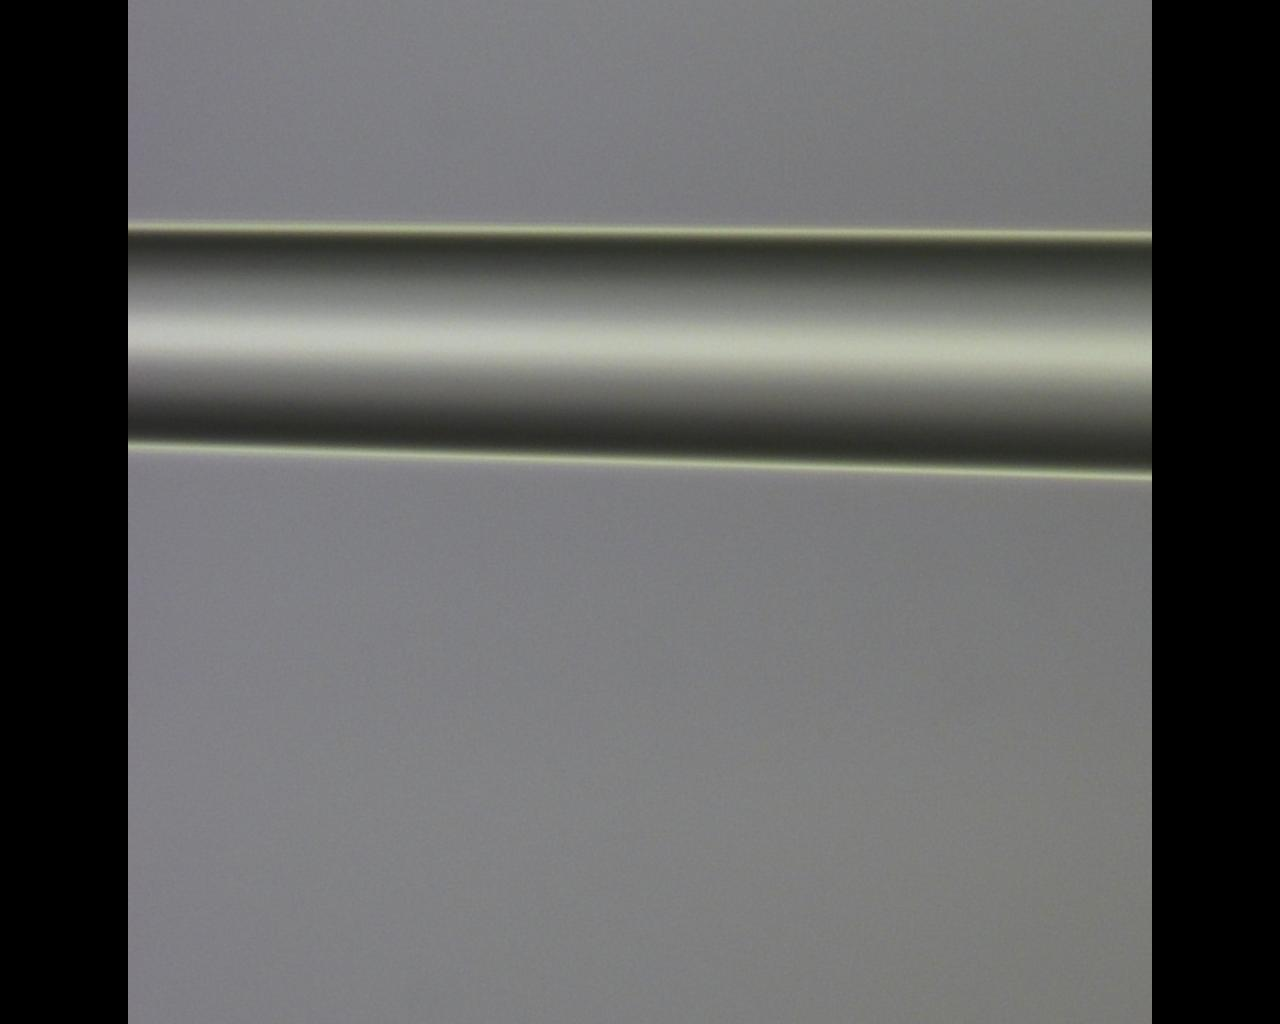fiber: (804, 0, 1123, 1024)
